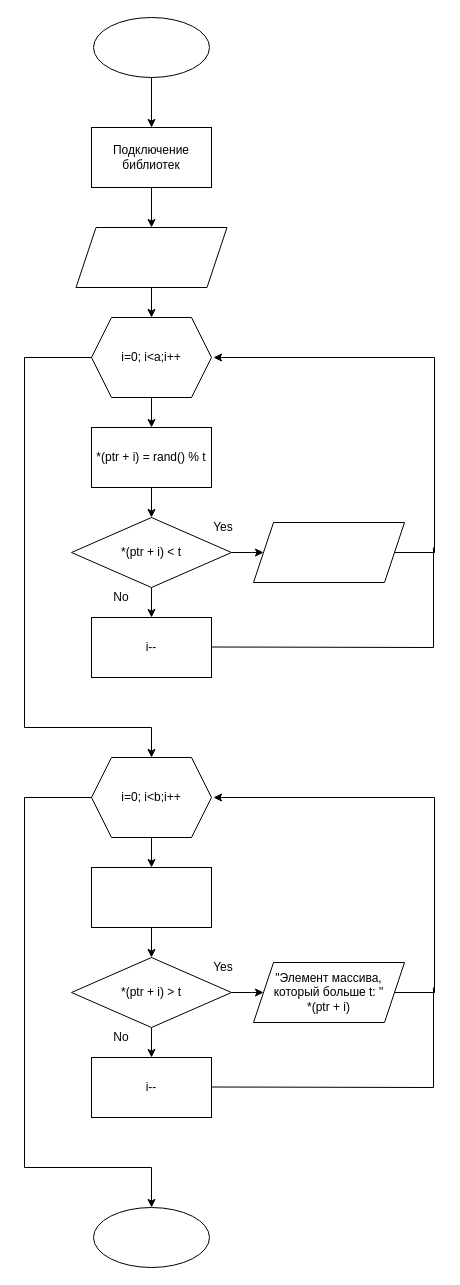
This 460x1285 diagram has some shape labels left out. Here are the shapes that lost their labels. From the top down, the centre of each, then its label:
(151,47): Начало
(151,257): Ввод переменных
(328,552): "Элемент массива, который меньше t: " *(ptr + i)
(151,897): *(ptr + i) = rand() % (t+x)
(151,1237): Конец
